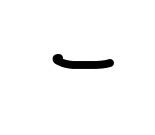minus: (53, 53, 114, 70)
